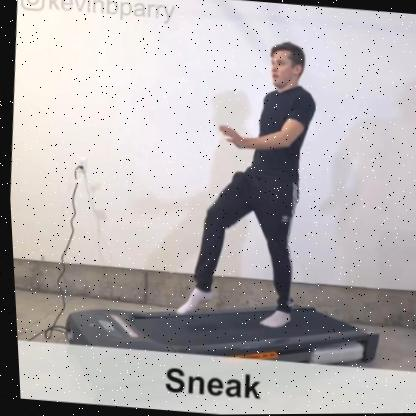person: (209, 32, 336, 315)
